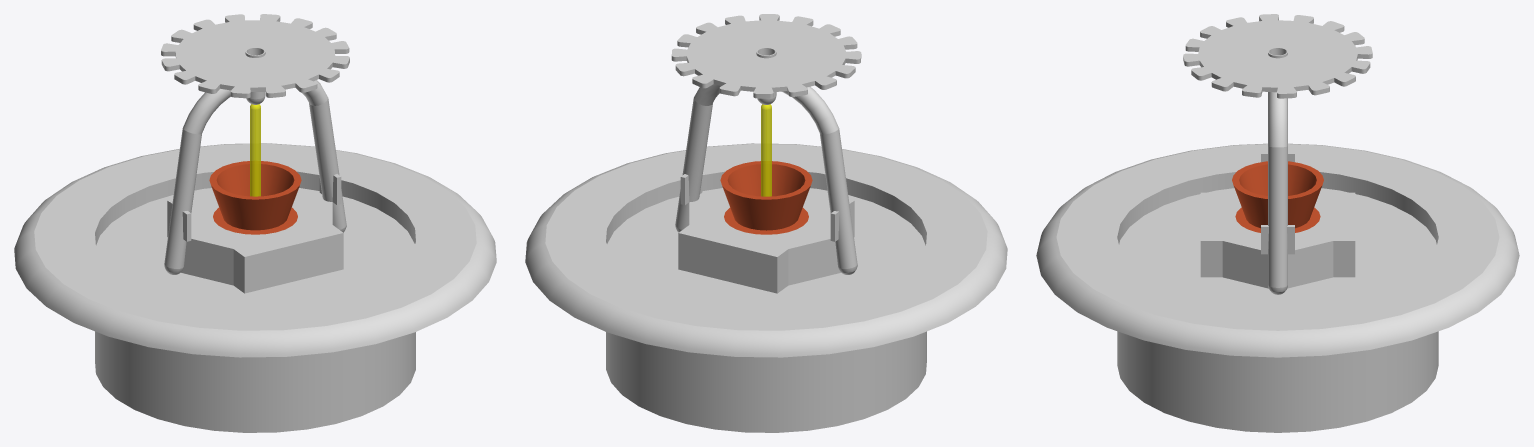
Rendered from Sprinkler.fbx.
The picture shows the model from 3 angles, left to right: view 1: azimuth 30°, elevation 25°; view 2: azimuth 150°, elevation 25°; view 3: azimuth 270°, elevation 25°; orthographic projection.
Visible parts, largest first — view 1: Celling_Support1, Light_Hanger1, Base1, Light1; view 2: Celling_Support1, Light_Hanger1, Base1, Light1; view 3: Celling_Support1, Light_Hanger1, Base1, Light1.
Boxes of the visible parts, x1,y1,x2,y2 form: Celling_Support1: (14, 143, 496, 432); Light_Hanger1: (164, 54, 346, 293); Base1: (161, 14, 349, 98); Light1: (209, 104, 301, 234); Celling_Support1: (525, 143, 1007, 432); Light_Hanger1: (675, 55, 857, 293); Base1: (671, 14, 861, 98); Light1: (720, 104, 812, 234); Celling_Support1: (1036, 143, 1519, 432); Light_Hanger1: (1200, 55, 1355, 294); Base1: (1183, 14, 1372, 98); Light1: (1232, 161, 1323, 232).
Size of the model in its own units: 0.3048 by 0.218 by 0.3048.
